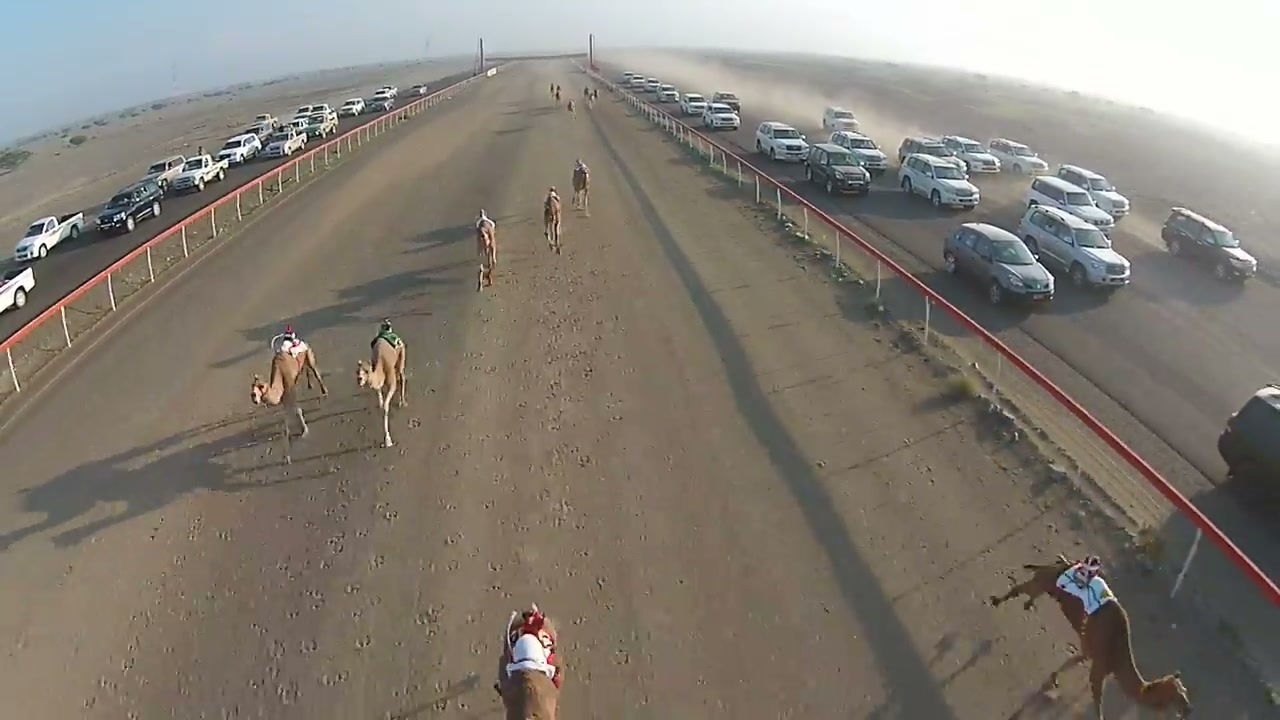animal_foot_print: (100, 471, 428, 715)
